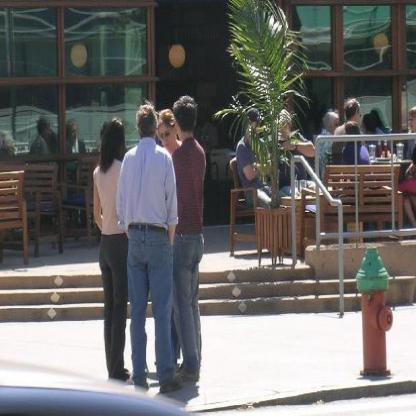person: (116, 103, 176, 390), (166, 92, 216, 393), (82, 114, 133, 388)
